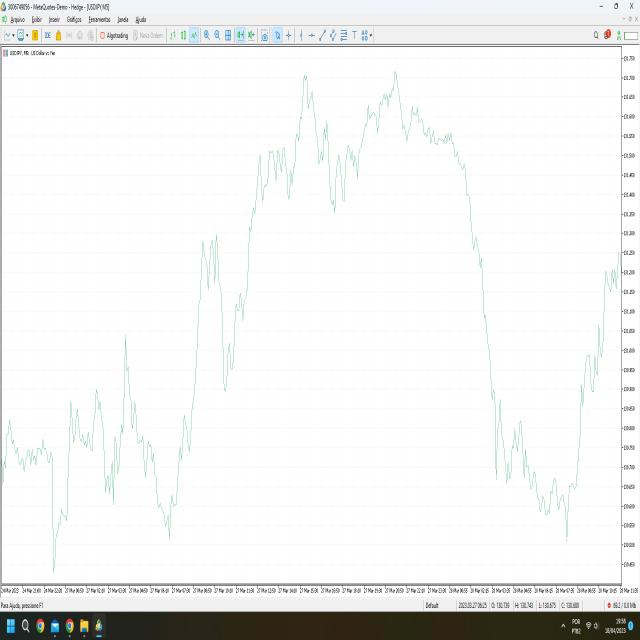bandeira_alta: (240, 118, 292, 320)
oco_inv: (126, 371, 207, 574)
